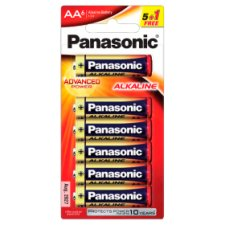Battery: (72, 161, 155, 186), (72, 185, 153, 210), (72, 54, 153, 78), (72, 96, 153, 120), (72, 139, 153, 161), (73, 120, 152, 140)
